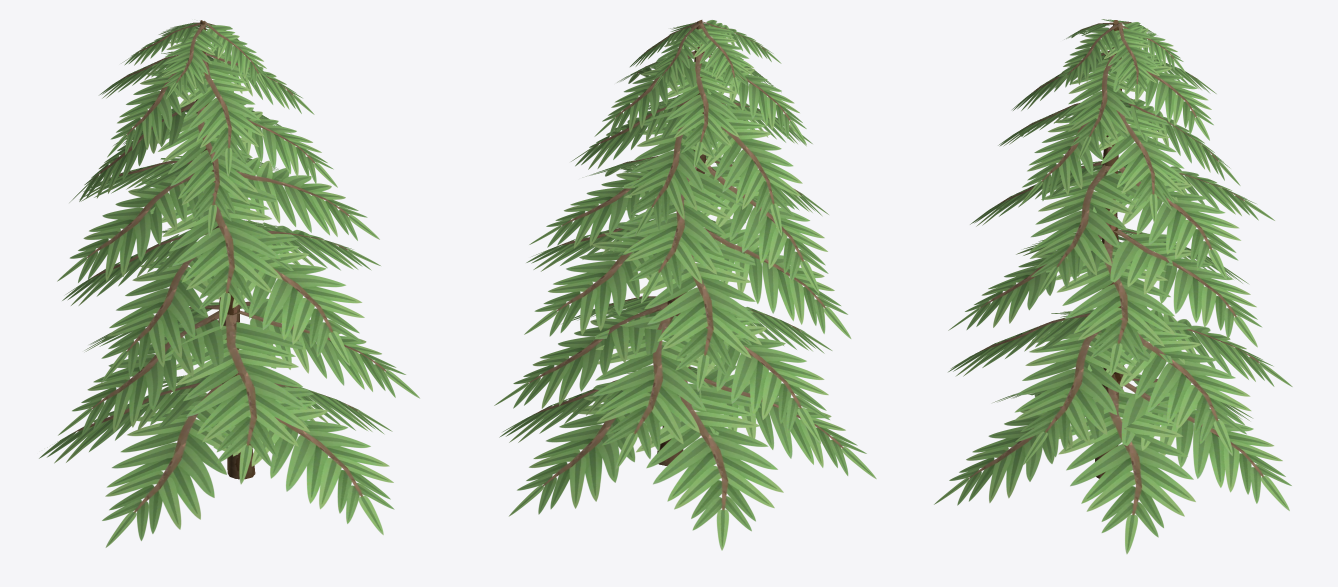
Rendered from tpine-2.glb.
3 views of the same model, side by side, from view 1: azimuth 30°, elevation 25°; view 2: azimuth 150°, elevation 25°; view 3: azimuth 270°, elevation 25° (orthographic). The views are drawn at different scales.
Visible parts, largest first — view 1: Pine_2; view 2: Pine_2; view 3: Pine_2.
Part boxes in pixels (left/top/right/bottom): Pine_2: left=39, top=20, right=419, bottom=547; Pine_2: left=494, top=20, right=876, bottom=550; Pine_2: left=934, top=19, right=1292, bottom=553.
Size of the model in its own units: 6.61 by 8.34 by 6.78.
2 materials, 2 textured.
